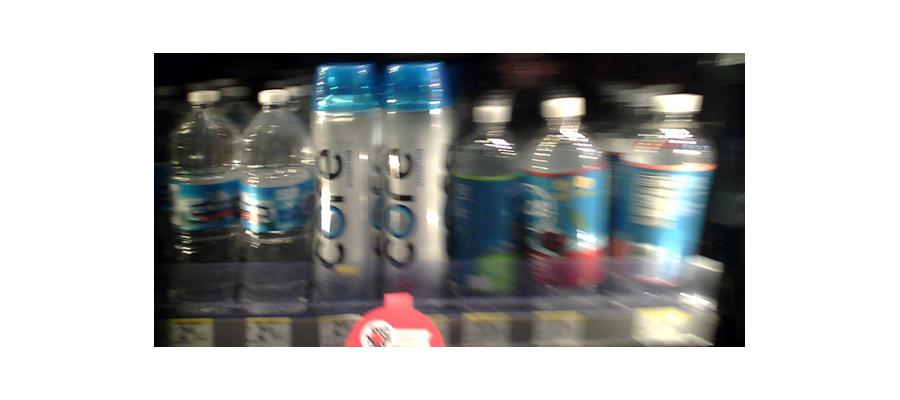bottle: (611, 92, 714, 299), (377, 60, 451, 312), (526, 97, 611, 313), (235, 90, 314, 315), (311, 59, 379, 318), (449, 98, 524, 306), (166, 88, 233, 312)
